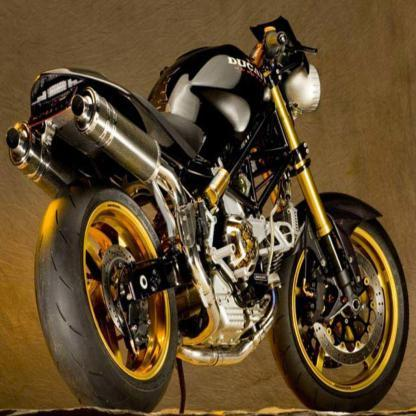motorcycle: (14, 0, 408, 416)
